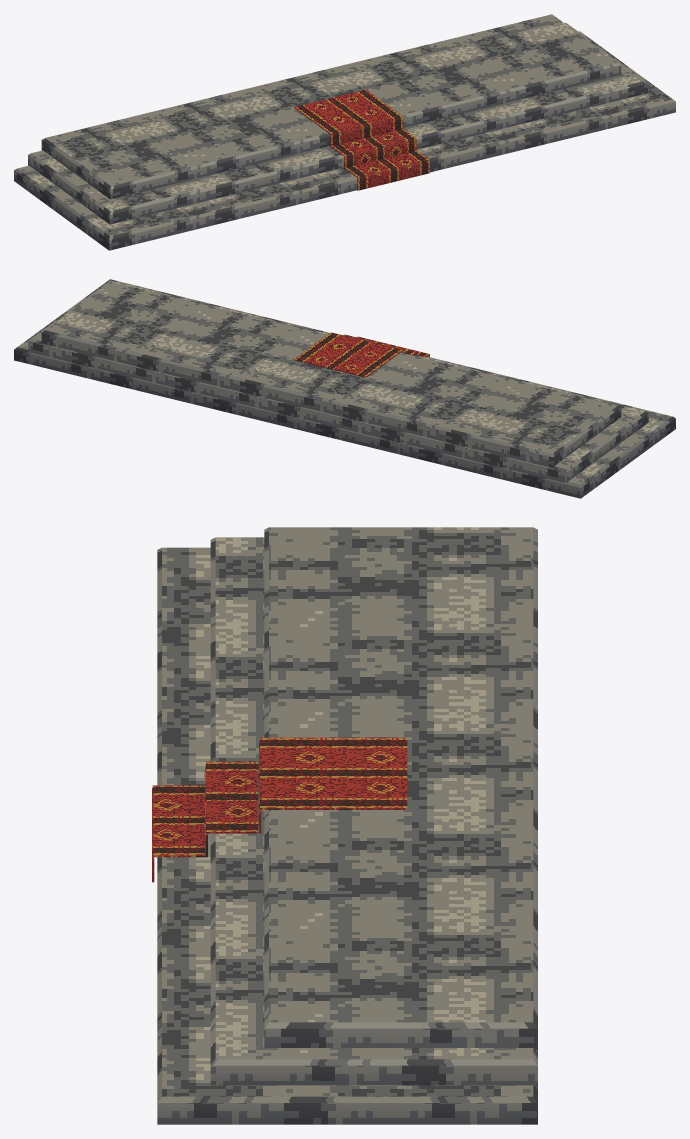
File: cst.dais__wide.glb
3 views of the same model, one above another, from view 1: azimuth 30°, elevation 25°; view 2: azimuth 150°, elevation 25°; view 3: azimuth 270°, elevation 25° (orthographic). The views are drawn at different scales.
Parts seen in each view (by area): view 1: kit_steps, kit_carpet; view 2: kit_steps, kit_carpet; view 3: kit_steps, kit_carpet.
Boxes of the visible parts, bbox=[...] form: kit_steps: bbox=[14, 14, 675, 250]; kit_carpet: bbox=[294, 89, 429, 190]; kit_steps: bbox=[14, 279, 675, 498]; kit_carpet: bbox=[294, 332, 429, 377]; kit_steps: bbox=[157, 527, 537, 1124]; kit_carpet: bbox=[152, 737, 407, 882].
Size of the model in its own units: 11 by 0.696 by 3.25.
Materials: 2 (2 with a texture image).
